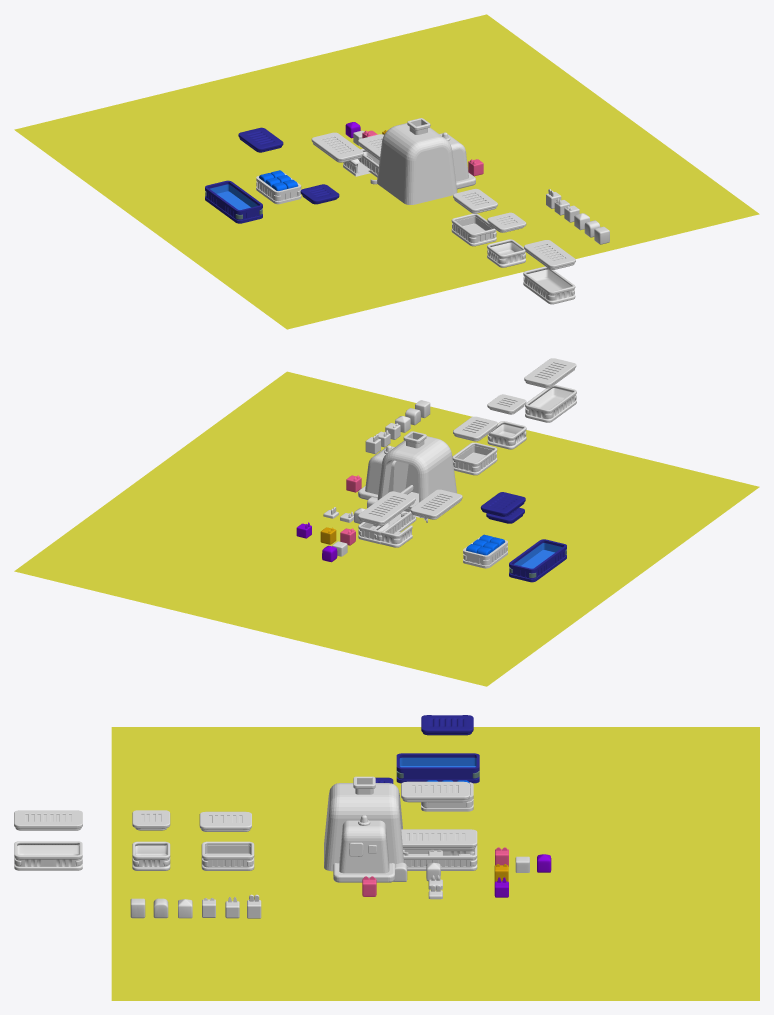
File: Container_XL.fbx
3 views of the same model, one above another, from view 1: azimuth 30°, elevation 25°; view 2: azimuth 150°, elevation 25°; view 3: azimuth 270°, elevation 25° (orthographic). The views are drawn at different scales.
Visible parts, largest first — view 1: Plane, Cube, Cube.010, Cube.005, Cube.017, Cube.008, Cube.015, box_4x4.002, Cube.019, Cube.022, Cube.021, box_4x4_lid (+1 smaller); view 2: Plane, Cube, Cube.010, Cube.005, Cube.020, Cube.017, Cube.008, Cube.015, box_4x4.002, Cube.012, Cube.019, Cube.022 (+3 smaller); view 3: Plane, Cube, Cube.010, Cube.005, Cube.017, Cube.020, Cube.008, Cube.015, Cube.012, box_4x4.002, Cube.022, Cube.019 (+2 smaller).
Boxes of the visible parts, x1,y1,x2,y2 form: Plane: [14, 14, 759, 329]; Cube: [377, 118, 475, 204]; Cube.010: [205, 180, 262, 223]; Cube.005: [523, 266, 575, 304]; Cube.017: [451, 213, 496, 246]; Cube.008: [311, 132, 363, 162]; Cube.015: [524, 240, 575, 269]; box_4x4.002: [487, 239, 525, 267]; Cube.019: [453, 188, 497, 213]; Cube.022: [238, 127, 283, 152]; Cube.021: [256, 172, 301, 204]; box_4x4_lid: [300, 184, 339, 204]; Plane: [14, 371, 759, 686]; Cube: [358, 431, 456, 518]; Cube.010: [509, 539, 566, 582]; Cube.005: [525, 385, 576, 422]; Cube.020: [358, 491, 415, 525]; Cube.017: [452, 442, 497, 475]; Cube.008: [410, 489, 462, 519]; Cube.015: [524, 358, 576, 388]; box_4x4.002: [487, 421, 526, 449]; Cube.012: [358, 506, 416, 544]; Cube.019: [453, 416, 497, 441]; Cube.022: [480, 492, 525, 516]; Plane: [111, 727, 759, 1000]; Cube: [324, 776, 404, 882]; Cube.010: [396, 753, 479, 783]; Cube.005: [14, 841, 82, 870]; Cube.017: [201, 841, 254, 870]; Cube.020: [401, 829, 477, 849]; Cube.008: [401, 781, 469, 802]; Cube.015: [14, 810, 82, 830]; Cube.012: [403, 845, 477, 870]; box_4x4.002: [132, 841, 170, 870]; Cube.022: [421, 715, 473, 735]; Cube.019: [199, 811, 251, 831].
Size of the model in its own units: 9128 by 1466 by 10503.
